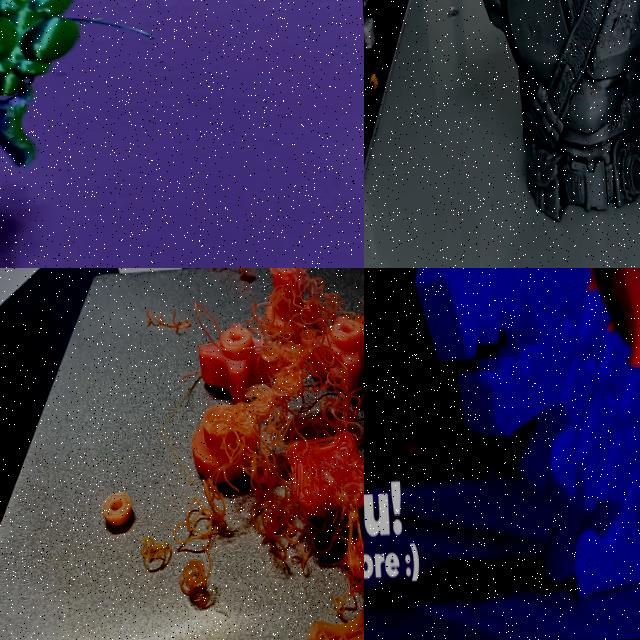spaghetti: (224, 302, 331, 591), (319, 278, 364, 438), (176, 468, 228, 550), (139, 296, 200, 358), (130, 520, 176, 576), (273, 268, 341, 292), (178, 562, 218, 602), (198, 268, 259, 291)
